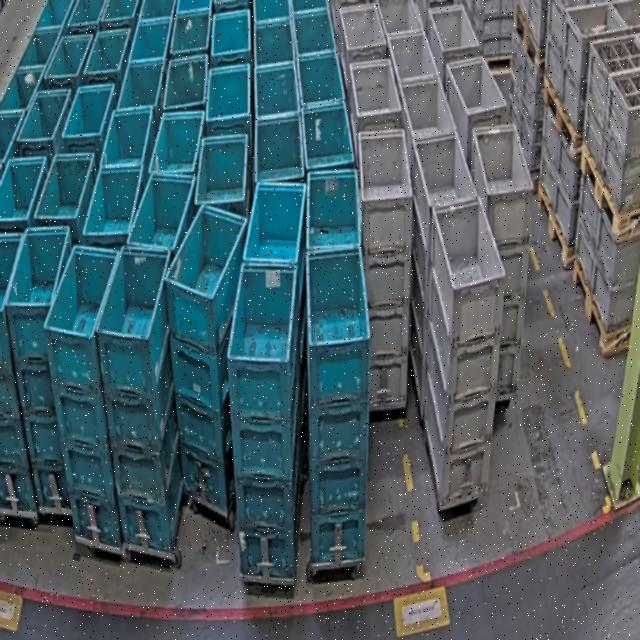4G: (422, 195, 506, 506), (470, 123, 534, 396), (358, 128, 413, 408)
B4: (94, 242, 184, 554), (164, 203, 248, 511), (226, 260, 302, 580), (44, 244, 122, 551), (305, 243, 371, 565), (6, 225, 78, 511)
